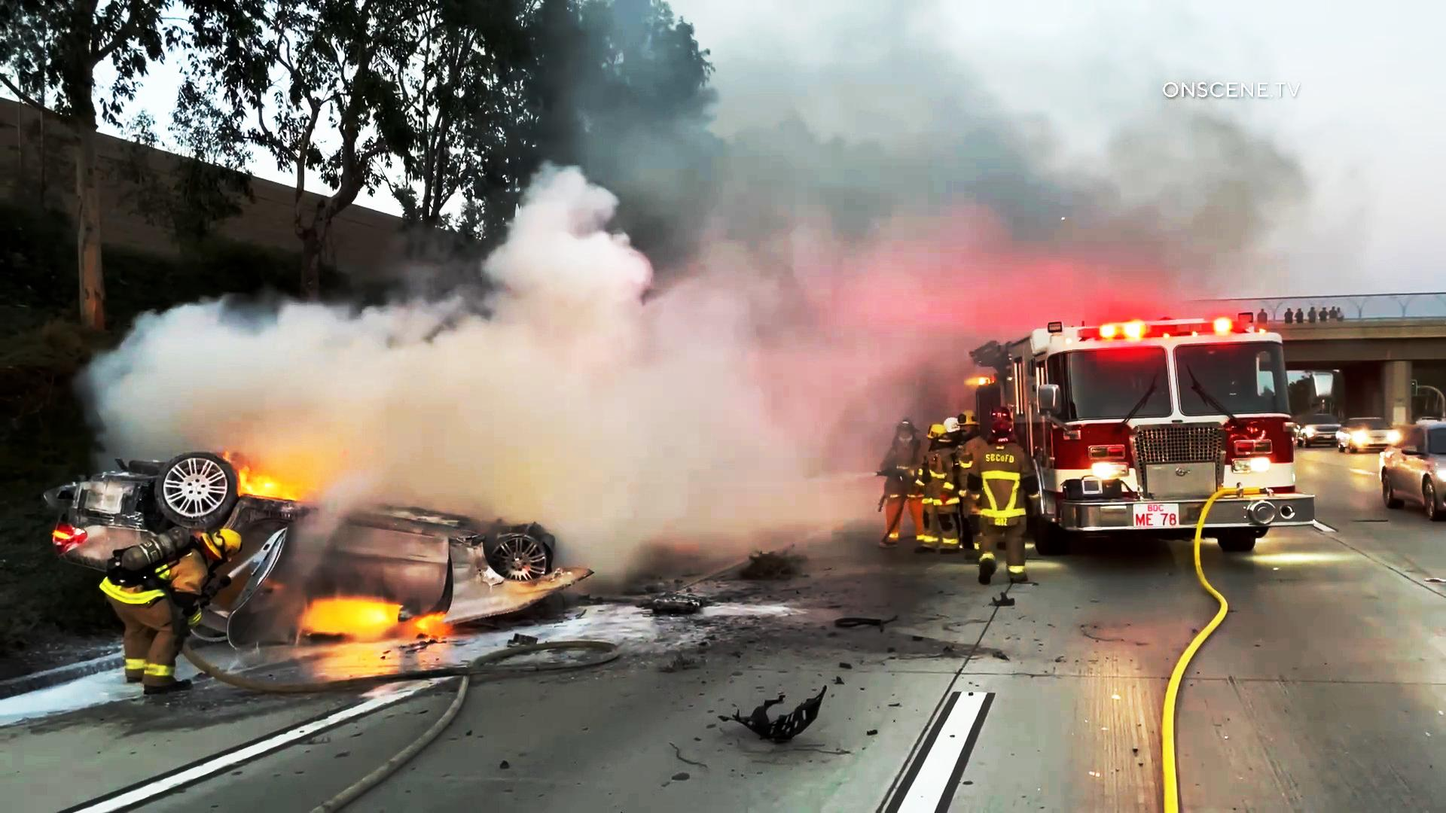fire: (224, 451, 315, 515), (311, 598, 400, 633)
smoke: (471, 169, 819, 562), (533, 8, 1071, 183), (71, 291, 473, 446), (1076, 111, 1337, 313), (828, 186, 967, 402)
